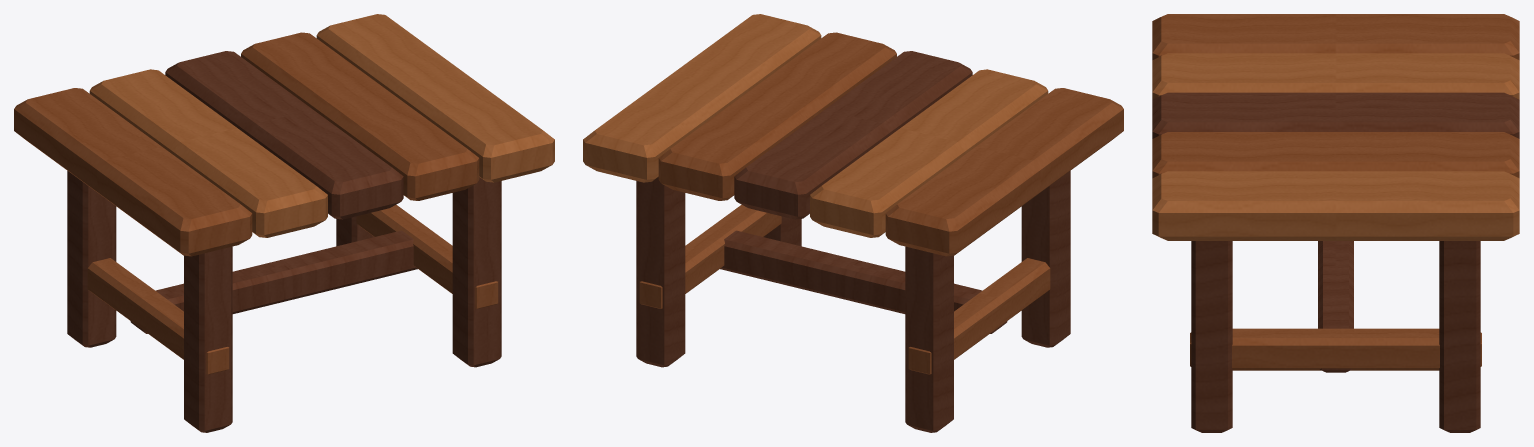
File: Prop_TavernTable.obj
The picture shows the model from 3 angles, left to right: view 1: azimuth 30°, elevation 25°; view 2: azimuth 150°, elevation 25°; view 3: azimuth 270°, elevation 25°; orthographic projection. The views are drawn at different scales.
Visible parts, largest first — view 1: Tabletop_planks, Legs, Stretcher, Long_stretcher; view 2: Tabletop_planks, Legs, Stretcher, Long_stretcher; view 3: Tabletop_planks, Legs, Stretcher, Long_stretcher.
Part boxes in pixels (<box>): Tabletop_planks: <box>14,14,554,256</box>; Legs: <box>67,171,501,432</box>; Stretcher: <box>87,204,498,374</box>; Long_stretcher: <box>130,230,417,333</box>; Tabletop_planks: <box>583,14,1123,256</box>; Legs: <box>636,171,1070,432</box>; Stretcher: <box>639,204,1050,374</box>; Long_stretcher: <box>720,230,1007,333</box>; Tabletop_planks: <box>1152,14,1519,240</box>; Legs: <box>1191,241,1480,432</box>; Stretcher: <box>1190,328,1481,370</box>; Long_stretcher: <box>1318,241,1353,372</box>.
Size of the model in its own units: 1.78 by 1.07 by 1.42.
Materials: 3 (3 with a texture image).
